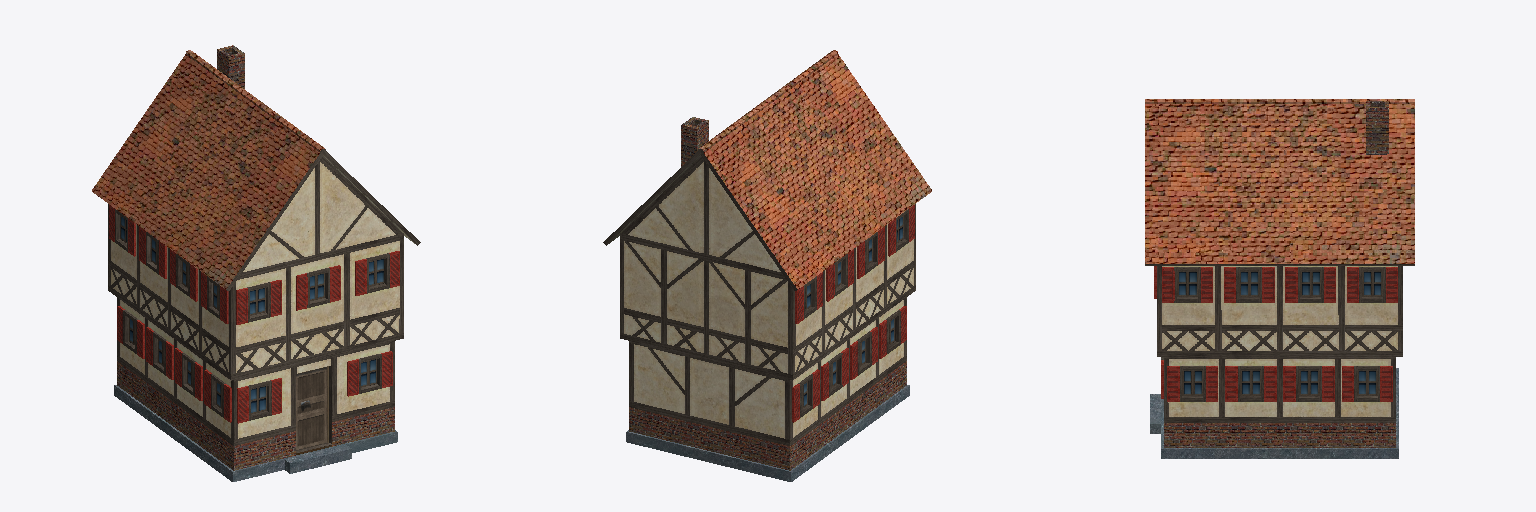
3 renders of one model, left to right at view 1: azimuth 30°, elevation 25°; view 2: azimuth 150°, elevation 25°; view 3: azimuth 270°, elevation 25°, orthographic.
Parts seen in each view (by area): view 1: NoName,1; view 2: NoName,1; view 3: NoName,1.
Part boxes in pixels (x1,y1,x2,y2): NoName,1: (92,45,420,481); NoName,1: (603,50,931,481); NoName,1: (1145,99,1414,458).
Bounding box in the file's own units: 5 × 8 × 6.
1 materials, 1 textured.